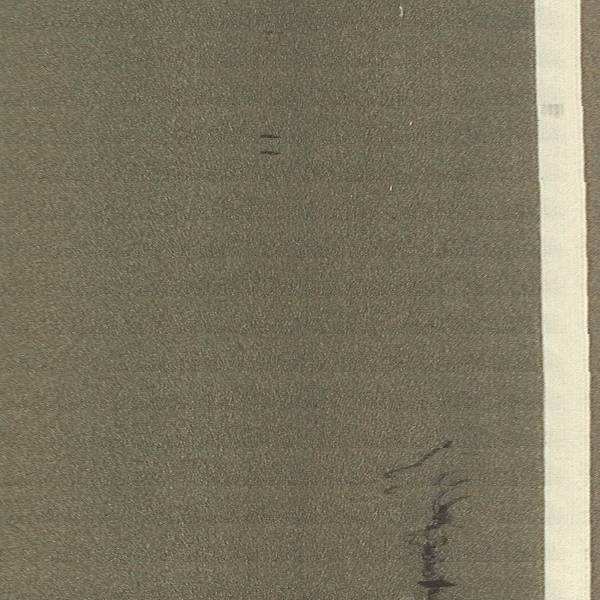road_damage: (411, 467, 469, 600)
